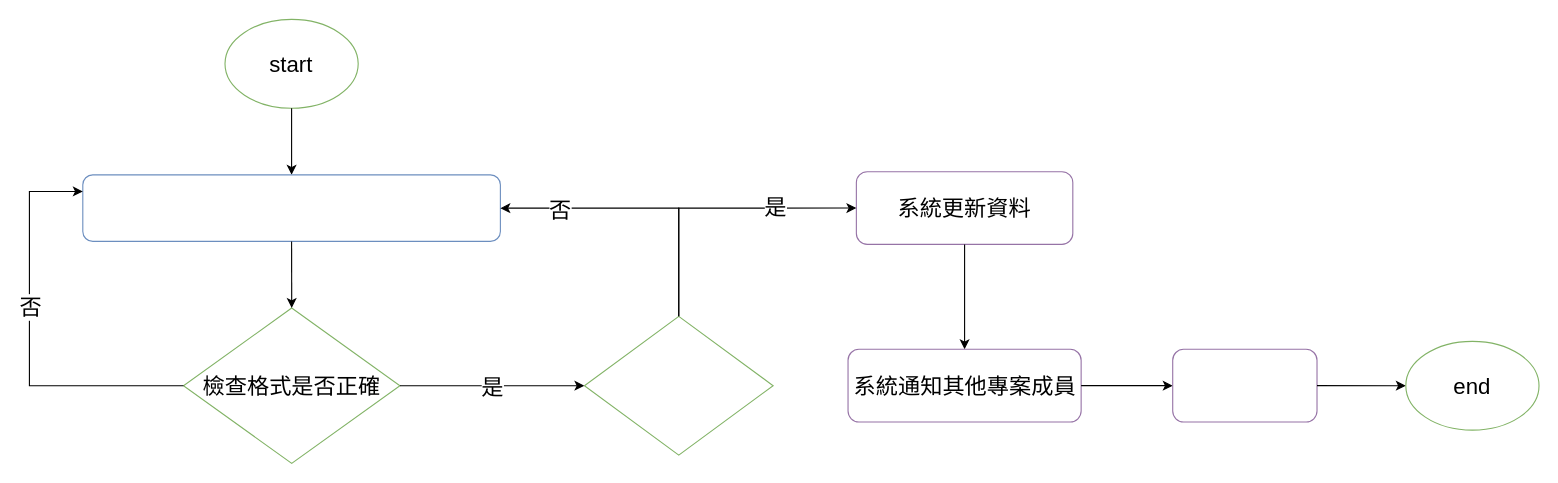
Some shapes in this 1558 by 483 pixel diagram are drawn without their labels. Here are the shapes that lost their labels. From the top down, the centre of each, then its label:
At point (291, 207): "使用者更新task內容，或拖曳到其他階段".
At point (678, 385): "系統是否成功更新".
At point (1244, 385): "系統更新頁面".
